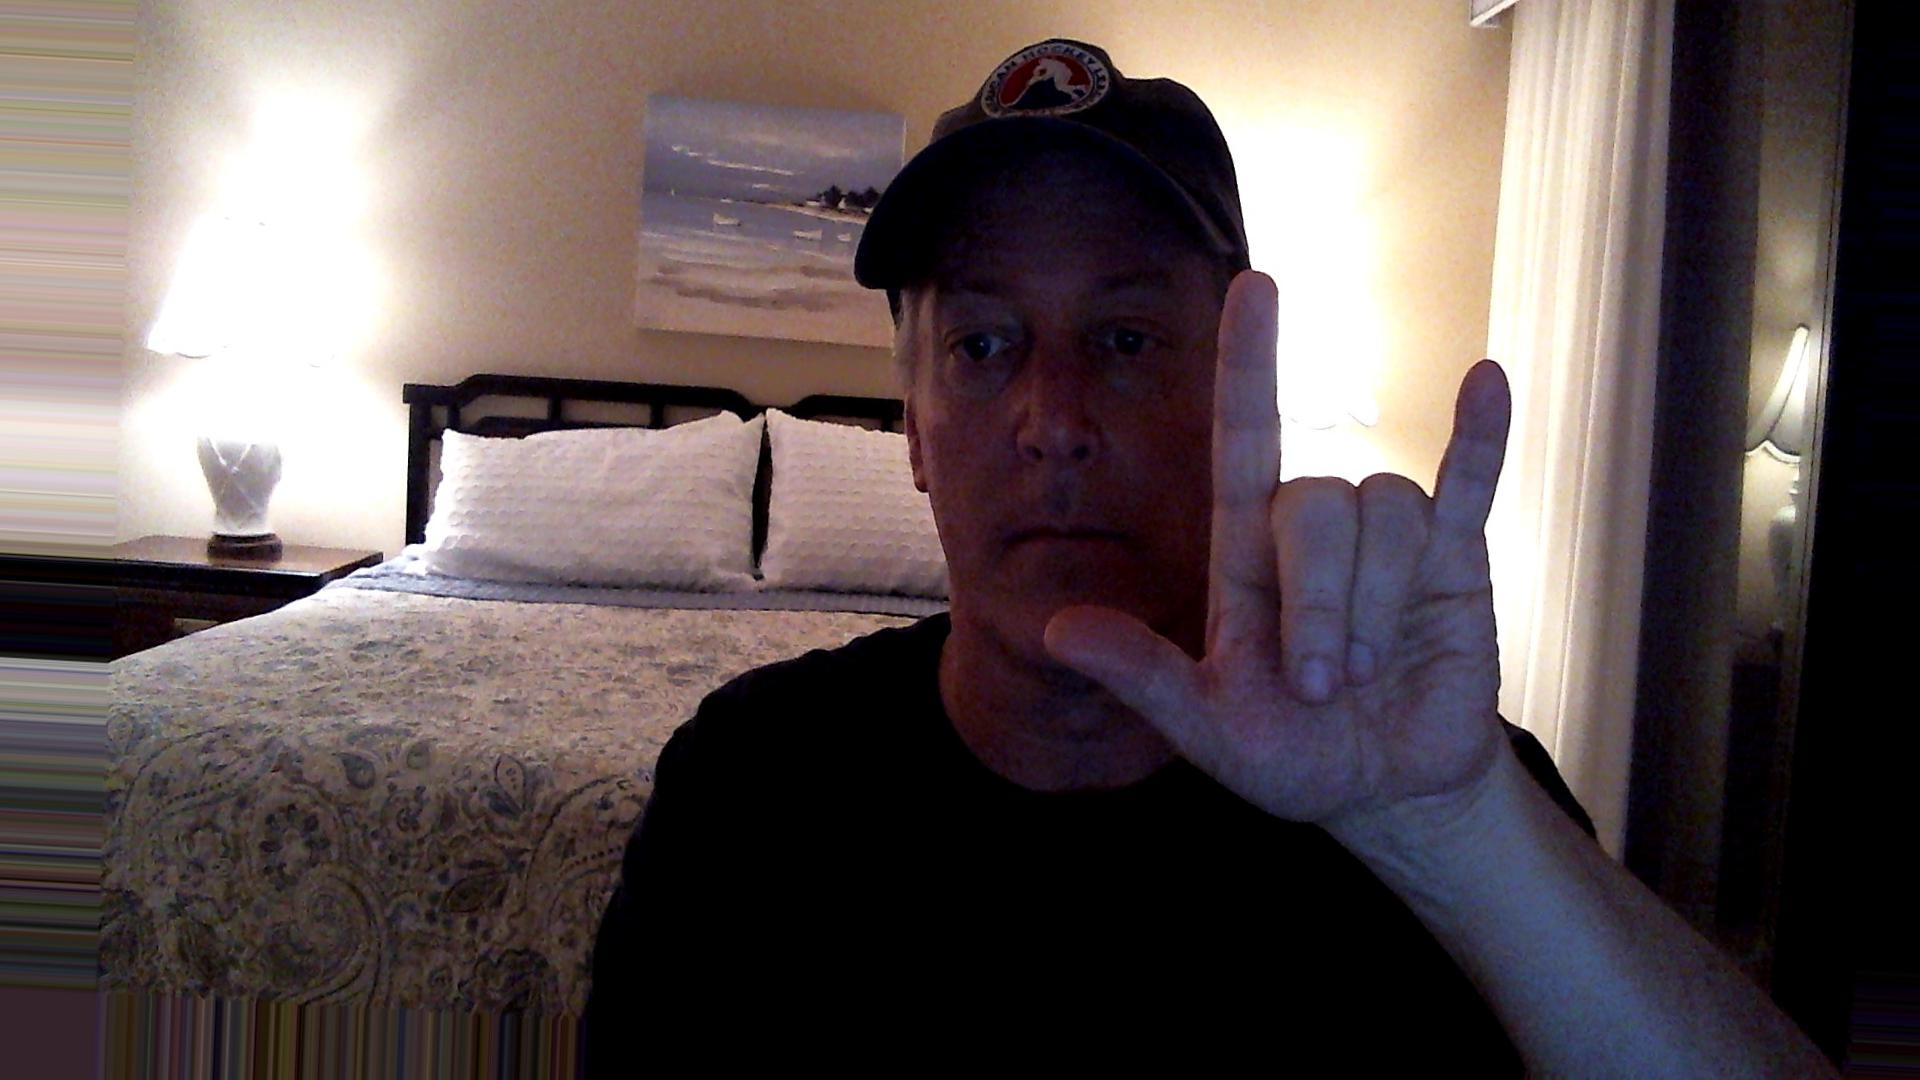I Love You: (1029, 244, 1597, 825)
